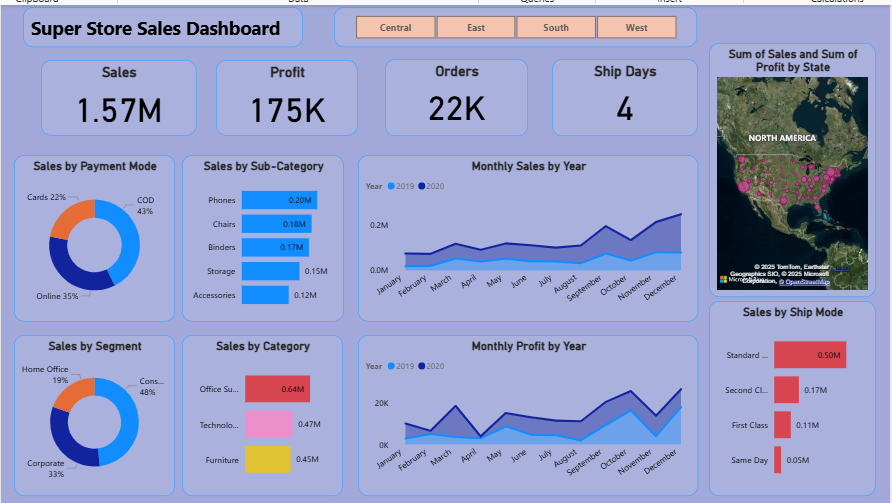

What the dashboard file says about the page in this screenshot:
{"tool":"powerbi","page":{"name":"Page 1","canvas":[1280,720],"ordinal":0},"visuals":[{"type":"clusteredBarChart","title":"Sales by Category","fields":{"Category":["SuperStore_Sales_Dataset.Category"],"Y":["Sum(SuperStore_Sales_Dataset.Sales)"]},"box":[260.4,475.4,231.8,231.8],"z":0},{"type":"clusteredBarChart","title":"Sales by Sub-Category","fields":{"Category":["SuperStore_Sales_Dataset.Sub-Category"],"Y":["Sum(SuperStore_Sales_Dataset.Sales)"]},"box":[260.4,216.7,233.5,240.2],"z":1000},{"type":"clusteredBarChart","title":"Sales by Ship Mode","fields":{"Y":["Sum(SuperStore_Sales_Dataset.Sales)"],"Category":["SuperStore_Sales_Dataset.Ship Mode"]},"box":[1019.5,426.2,240.5,280.8],"z":2000},{"type":"stackedAreaChart","title":"Monthly Sales by  Year","fields":{"Y":["Sum(SuperStore_Sales_Dataset.Sales)"],"Category":["SuperStore_Sales_Dataset.Order Date.Variation.Date Hierarchy.Month","SuperStore_Sales_Dataset.Order Date.Variation.Date Hierarchy.Day"],"Series":["SuperStore_Sales_Dataset.Order Date.Variation.Date Hierarchy.Year"]},"box":[514,216.7,490.5,240.2],"z":3000},{"type":"stackedAreaChart","title":"Monthly Profit  by  Year","fields":{"Category":["SuperStore_Sales_Dataset.Order Date.Variation.Date Hierarchy.Month","SuperStore_Sales_Dataset.Order Date.Variation.Date Hierarchy.Day"],"Series":["SuperStore_Sales_Dataset.Order Date.Variation.Date Hierarchy.Year"],"Y":["Sum(SuperStore_Sales_Dataset.Profit)"]},"box":[514,475.4,490.5,231.8],"z":4000},{"type":"map","title":" Sales and  Profit by State","fields":{"Category":["SuperStore_Sales_Dataset.State"],"Size":["Sum(SuperStore_Sales_Dataset.Sales)"]},"box":[1019.5,54.7,240.5,365.8],"z":5000},{"type":"donutChart","title":" Sales by Segment","fields":{"Category":["SuperStore_Sales_Dataset.Segment"],"Y":["Sum(SuperStore_Sales_Dataset.Sales)"]},"box":[18.5,475.4,231.8,231.8],"z":6000},{"type":"donutChart","title":" Sales by Payment Mode","fields":{"Y":["Sum(SuperStore_Sales_Dataset.Sales)"],"Category":["SuperStore_Sales_Dataset.Payment Mode"]},"box":[18.5,216.7,231.8,240.2],"z":7000},{"type":"slicer","fields":{"Values":["SuperStore_Sales_Dataset.Region"]},"box":[479.5,2.9,522.7,57.6],"z":8000},{"type":"textbox","box":[31.7,2.9,403.2,57.6],"z":9000},{"type":"card","title":"Sales","fields":{"Values":["Sum(SuperStore_Sales_Dataset.Sales)"]},"box":[58.1,79.2,223.6,109.2],"z":10000},{"type":"card","title":"Profit","fields":{"Values":["Sum(SuperStore_Sales_Dataset.Profit)"]},"box":[309.9,79.2,204.2,109.2],"z":11000},{"type":"card","title":"Orders","fields":{"Values":["Sum(SuperStore_Sales_Dataset.Quantity)"]},"box":[552.8,77.5,206,110.9],"z":12000},{"type":"card","title":"Ship Days","fields":{"Values":["Avg(SuperStore_Sales_Dataset.AvgDelivery)"]},"box":[794.1,77.5,209.5,110.9],"z":13000}]}

Visuals, with their boxes on the page's 1280x720 design canvas (x1, y1, x2, y2). These are canvas units, not pixel positions in the 892x503 screenshot, which may show the page scaled, cropped or inside an application window:
"Sales by Category" clusteredBarChart: (x1=260, y1=475, x2=492, y2=707)
"Sales by Sub-Category" clusteredBarChart: (x1=260, y1=217, x2=494, y2=457)
"Sales by Ship Mode" clusteredBarChart: (x1=1020, y1=426, x2=1260, y2=707)
"Monthly Sales by  Year" stackedAreaChart: (x1=514, y1=217, x2=1004, y2=457)
"Monthly Profit  by  Year" stackedAreaChart: (x1=514, y1=475, x2=1004, y2=707)
" Sales and  Profit by State" map: (x1=1020, y1=55, x2=1260, y2=420)
" Sales by Segment" donutChart: (x1=18, y1=475, x2=250, y2=707)
" Sales by Payment Mode" donutChart: (x1=18, y1=217, x2=250, y2=457)
slicer - SuperStore_Sales_Dataset.Region: (x1=480, y1=3, x2=1002, y2=60)
textbox: (x1=32, y1=3, x2=435, y2=60)
"Sales" card: (x1=58, y1=79, x2=282, y2=188)
"Profit" card: (x1=310, y1=79, x2=514, y2=188)
"Orders" card: (x1=553, y1=78, x2=759, y2=188)
"Ship Days" card: (x1=794, y1=78, x2=1004, y2=188)
